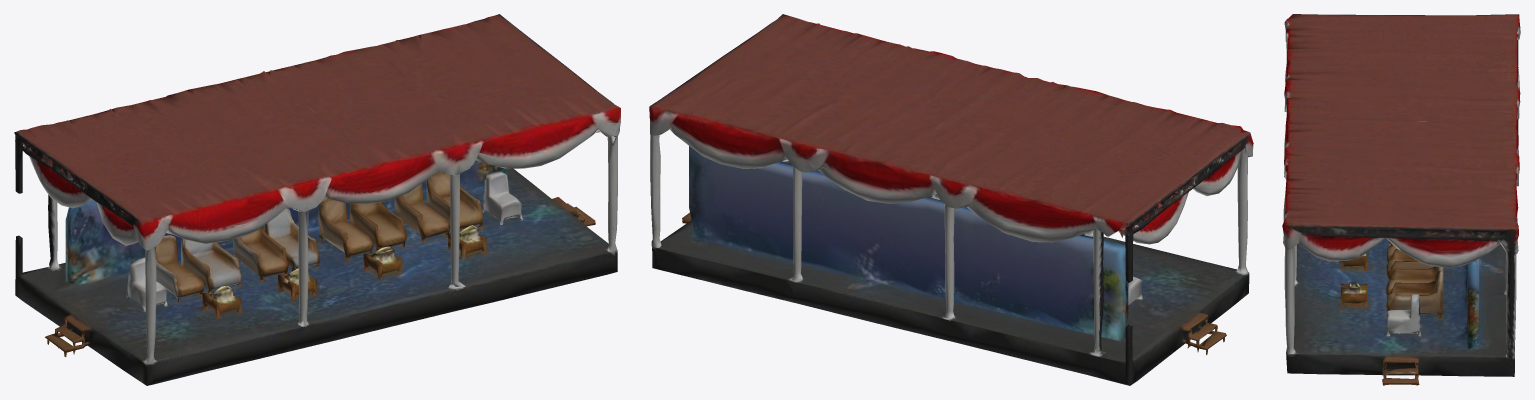
The model's file is tenda_parade_1.glb.
3 views of the same model, side by side, from view 1: azimuth 30°, elevation 25°; view 2: azimuth 150°, elevation 25°; view 3: azimuth 270°, elevation 25° (orthographic). The views are drawn at different scales.
Parts seen in each view (by area): view 1: tripo_node_337a63dc-1982-4dad-8e5b-e84a0524f6c2; view 2: tripo_node_337a63dc-1982-4dad-8e5b-e84a0524f6c2; view 3: tripo_node_337a63dc-1982-4dad-8e5b-e84a0524f6c2.
Part boxes in pixels (<box>): tripo_node_337a63dc-1982-4dad-8e5b-e84a0524f6c2: <box>14,14,620,385</box>; tripo_node_337a63dc-1982-4dad-8e5b-e84a0524f6c2: <box>649,14,1253,385</box>; tripo_node_337a63dc-1982-4dad-8e5b-e84a0524f6c2: <box>1282,14,1520,385</box>.
Bounding box in the file's own units: 1 × 0.3056 × 0.4276.
Materials: 1 (1 with a texture image).
